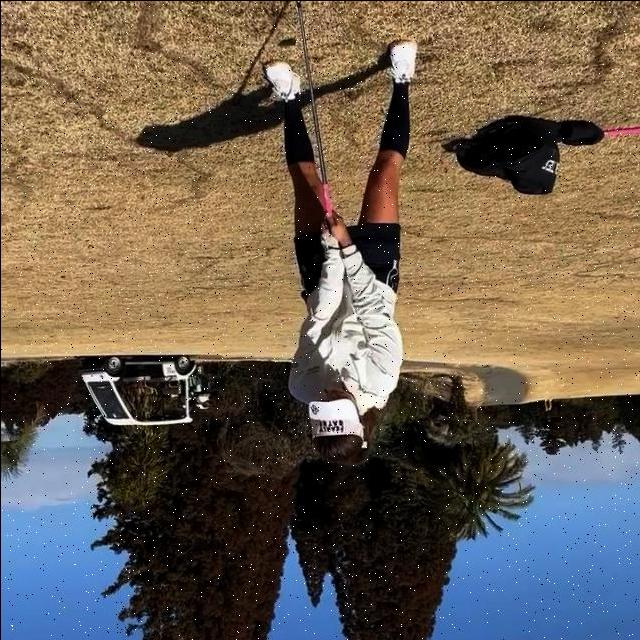golf club-handle: (295, 0, 329, 219)
